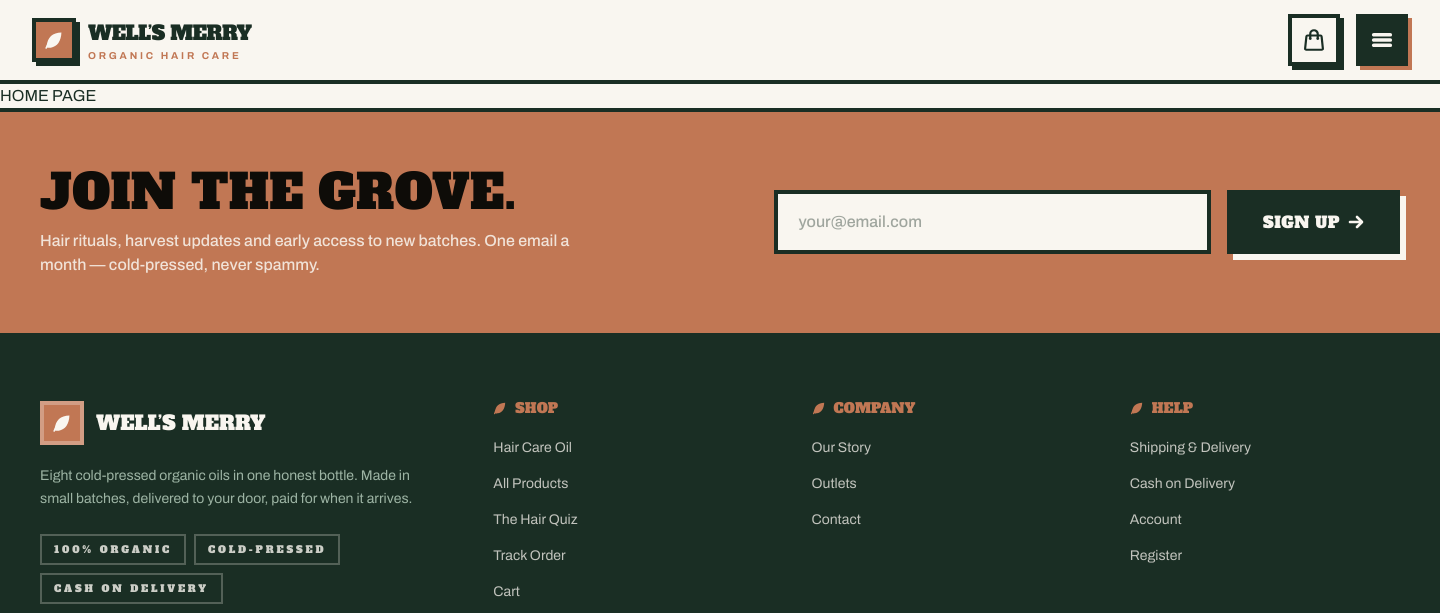
Navbar overlay › opens a full-screen menu from the hamburger
The image size is (1440, 613).
Click the button named "open menu" at (1382, 40), box [1356,14,1408,66]
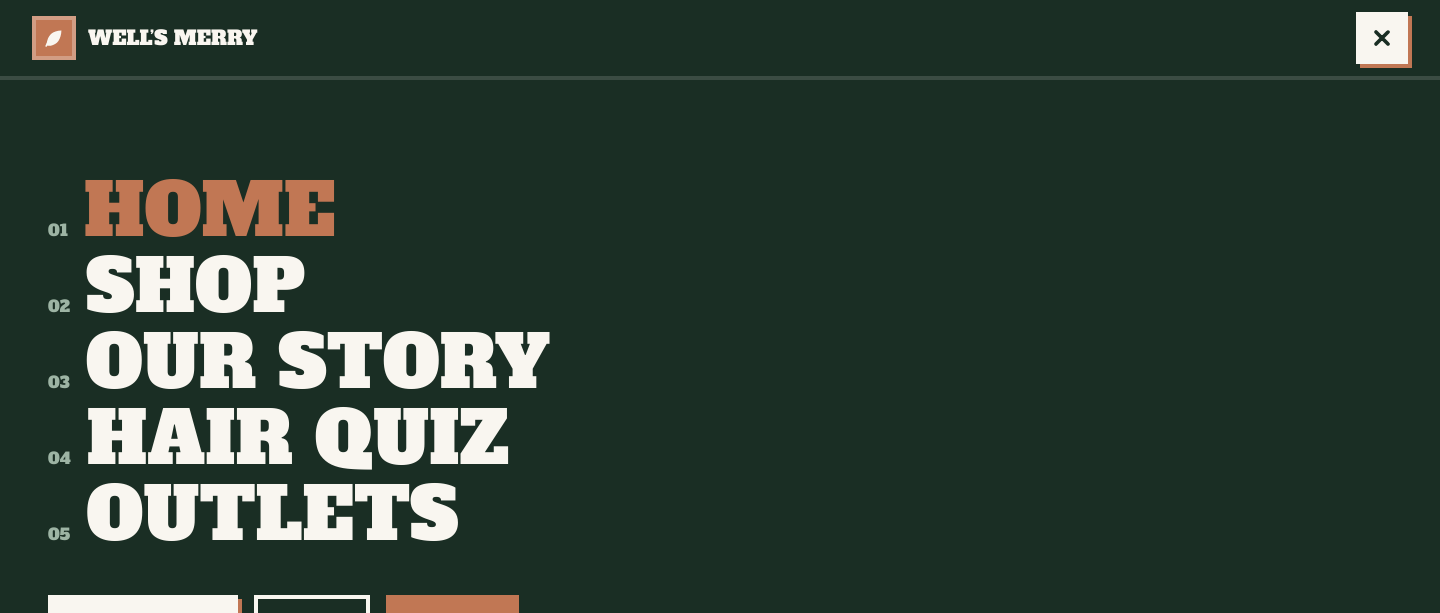
Expected: the button named "open menu" is expanded, [1356,14,1408,66]
